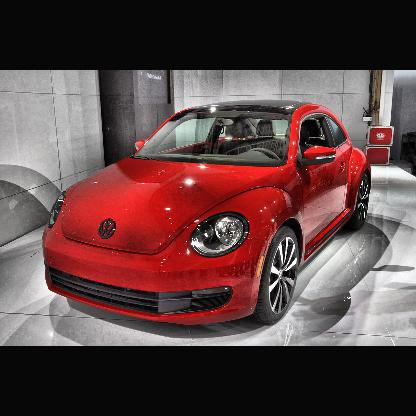Volkswagen Beetle Hatchback 2012: (45, 101, 372, 326)
